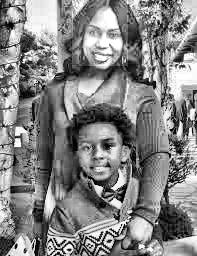happy: (73, 0, 129, 66)
